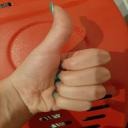ThumbsUp: (19, 2, 113, 121)
